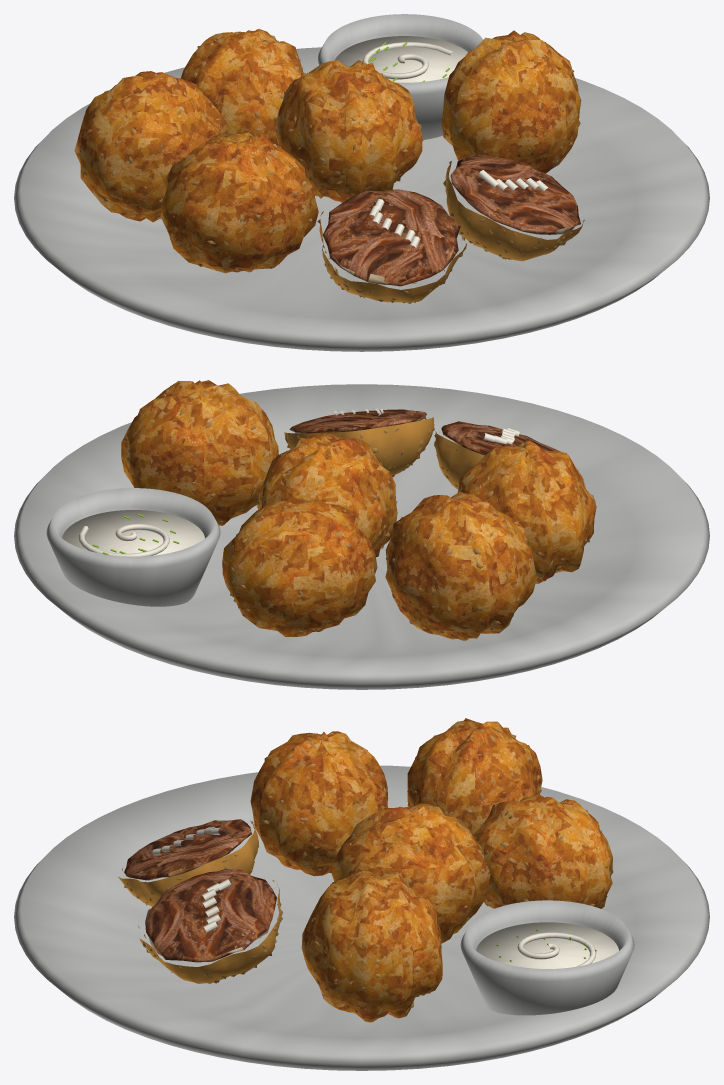
The model's file is bolinho-de-costela.glb.
3 views of the same model, one above another, from view 1: azimuth 30°, elevation 25°; view 2: azimuth 150°, elevation 25°; view 3: azimuth 270°, elevation 25° (orthographic).
Parts seen in each view (by area): view 1: Prato, Bolinho_empanado, Costela_e_catupiry, Conteudo, Migalhas_tostadas_salientes; view 2: Prato, Bolinho_empanado, Conteudo, Costela_e_catupiry, Migalhas_tostadas_salientes; view 3: Prato, Bolinho_empanado, Costela_e_catupiry, Conteudo, Migalhas_tostadas_salientes.
Boxes of the visible parts, <box> form: Prato: <box>14,14,709,351</box>; Bolinho_empanado: <box>74,29,583,302</box>; Costela_e_catupiry: <box>322,154,580,286</box>; Conteudo: <box>334,36,548,247</box>; Migalhas_tostadas_salientes: <box>83,28,584,303</box>; Prato: <box>14,384,709,689</box>; Bolinho_empanado: <box>121,380,596,640</box>; Conteudo: <box>62,408,519,556</box>; Costela_e_catupiry: <box>289,409,559,455</box>; Migalhas_tostadas_salientes: <box>124,386,593,637</box>; Prato: <box>14,765,709,1070</box>; Bolinho_empanado: <box>118,718,612,1022</box>; Costela_e_catupiry: <box>124,819,276,962</box>; Conteudo: <box>152,827,618,968</box>; Migalhas_tostadas_salientes: <box>122,720,613,1015</box>.
Size of the model in its own units: 0.24 by 0.057 by 0.24.
6 materials, 2 textured.
